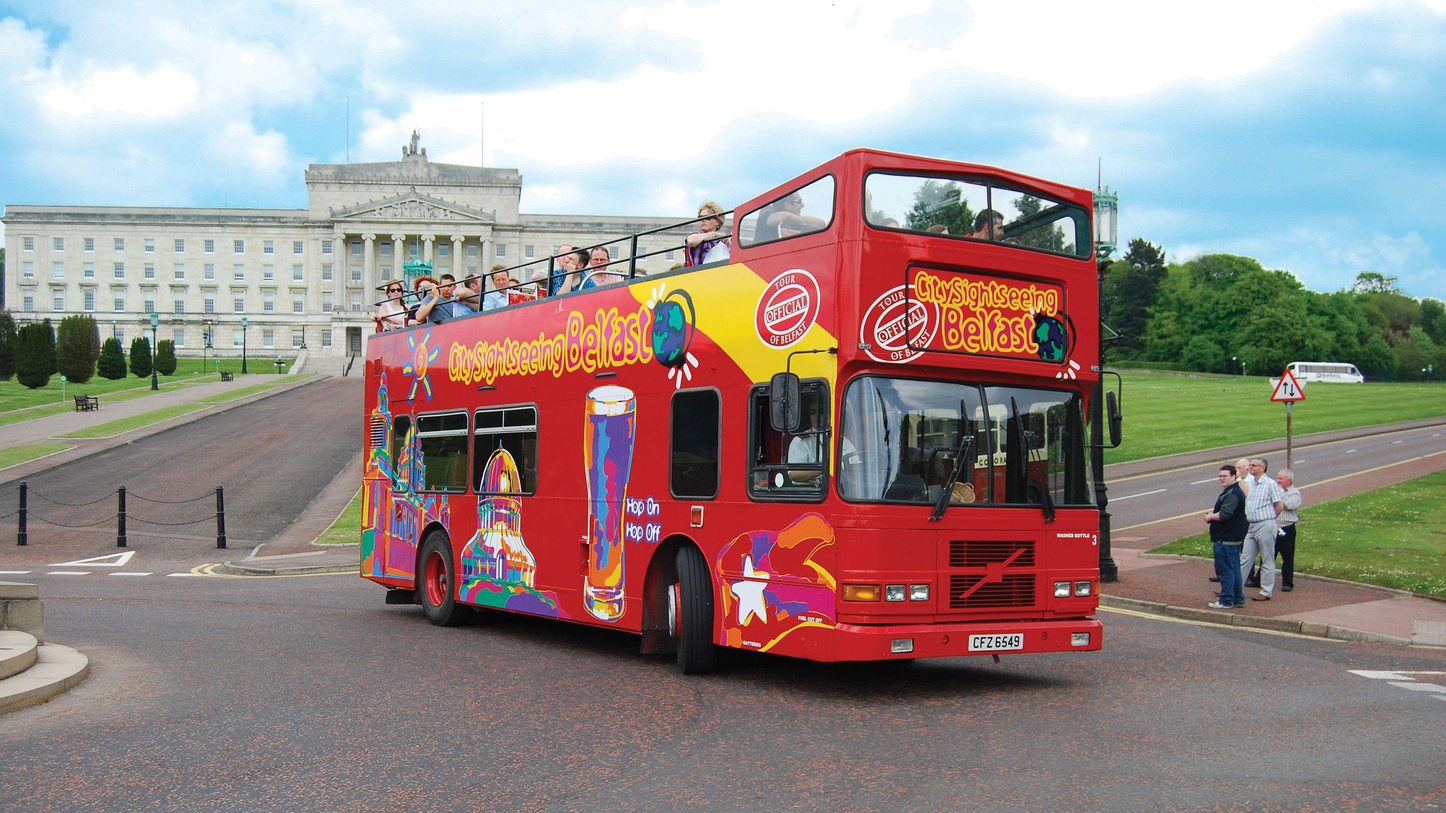Bus: (357, 149, 1117, 674)
